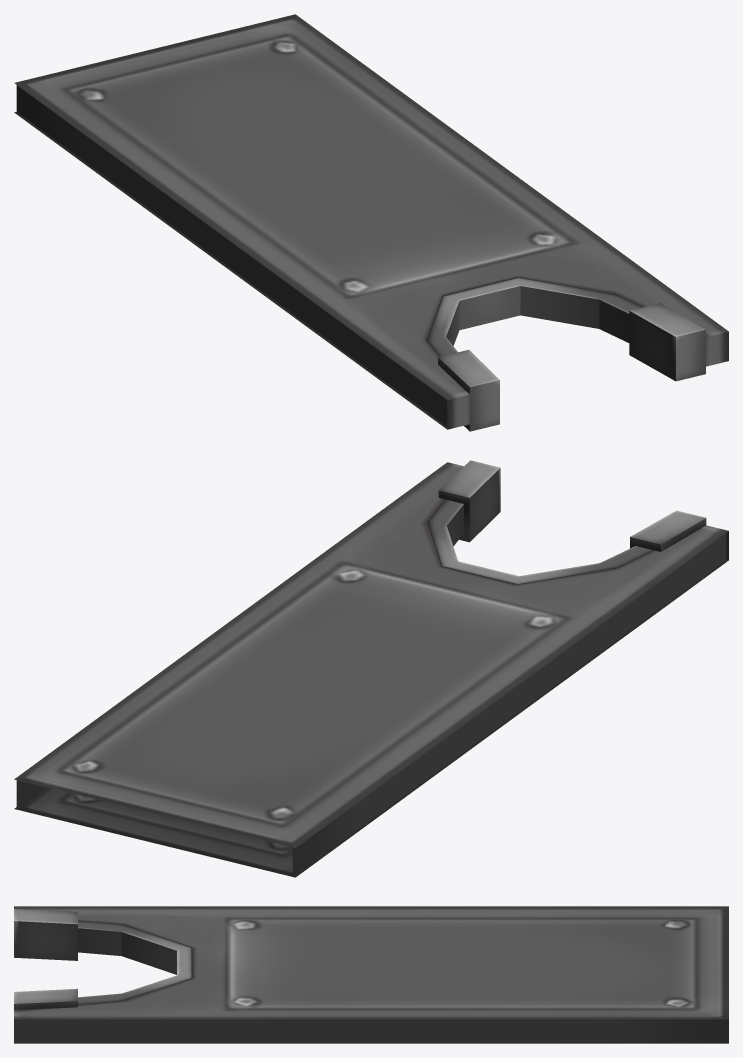
The model's file is 1201@Skin.FBX.
3 views of the same model, one above another, from view 1: azimuth 30°, elevation 25°; view 2: azimuth 150°, elevation 25°; view 3: azimuth 270°, elevation 25° (orthographic). The views are drawn at different scales.
Parts seen in each view (by area): view 1: body; view 2: body; view 3: body.
Part boxes in pixels (<box>): body: <box>14,14,728,431</box>; body: <box>14,460,728,877</box>; body: <box>14,906,728,1043</box>.
Bounding box in the file's own units: 30 × 4.53 × 80.
1 material, 1 textured.
